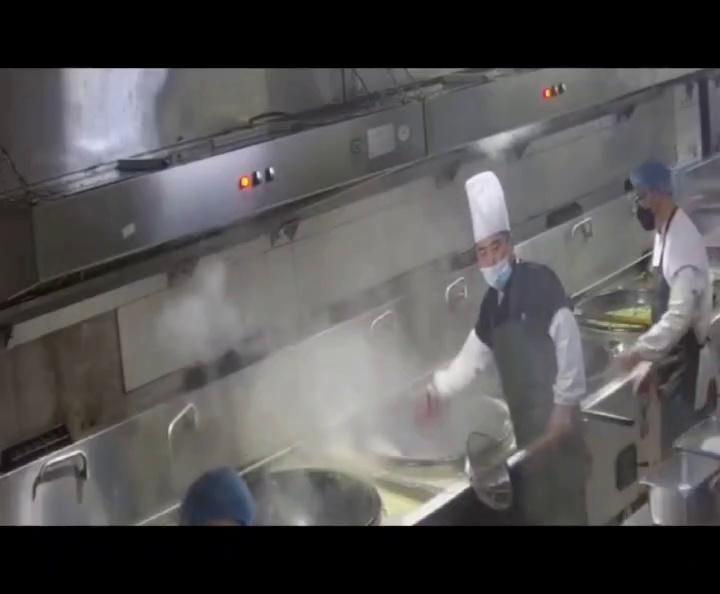mask: (481, 243, 516, 290)
